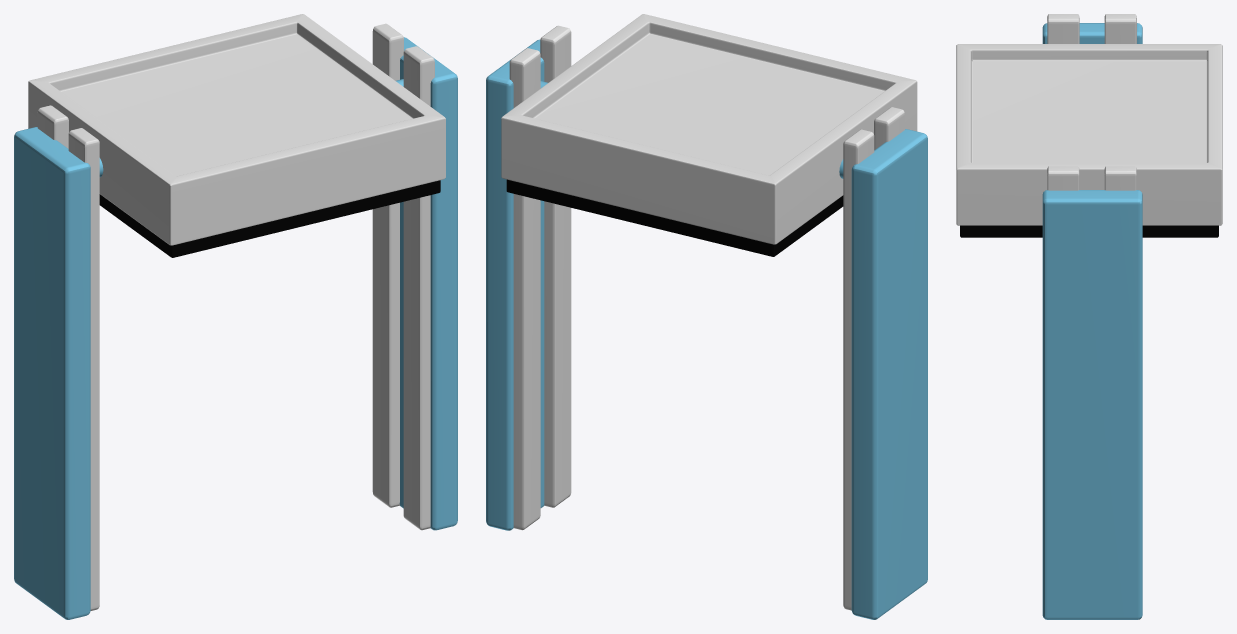
Rendered from Cube wall.fbx.
3 renders of one model, left to right at view 1: azimuth 30°, elevation 25°; view 2: azimuth 150°, elevation 25°; view 3: azimuth 270°, elevation 25°, orthographic. The views are drawn at different scales.
Parts seen in each view (by area): view 1: Side_Cubes, Main_cube; view 2: Side_Cubes, Main_cube; view 3: Side_Cubes, Main_cube.
Part boxes in pixels (box(x1,y1,x2,y2)): Side_Cubes: box(14, 23, 457, 619); Main_cube: box(28, 14, 445, 257); Side_Cubes: box(486, 25, 927, 619); Main_cube: box(501, 14, 917, 256); Side_Cubes: box(1042, 14, 1142, 619); Main_cube: box(956, 44, 1222, 237).
Bounding box in the file's own units: 15.38 × 17.63 × 9.67.
